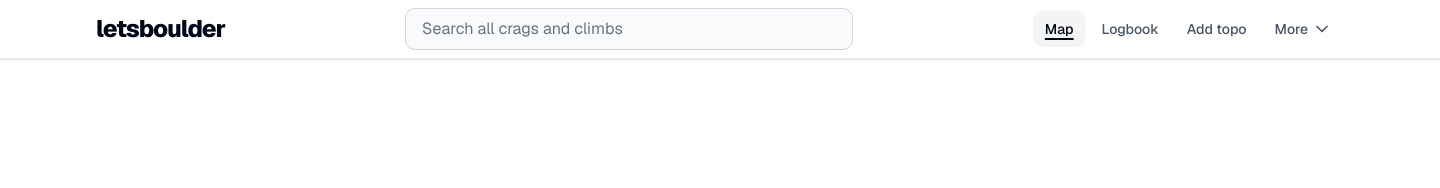
Test: Header search › offers clear and map recovery actions for an empty query
Step 1. Type "Burbage" into the dropdown labelled "Search all crags and climbs" → (629, 29), box x1=405 y1=8 x2=853 y2=50
Wait 500 ms
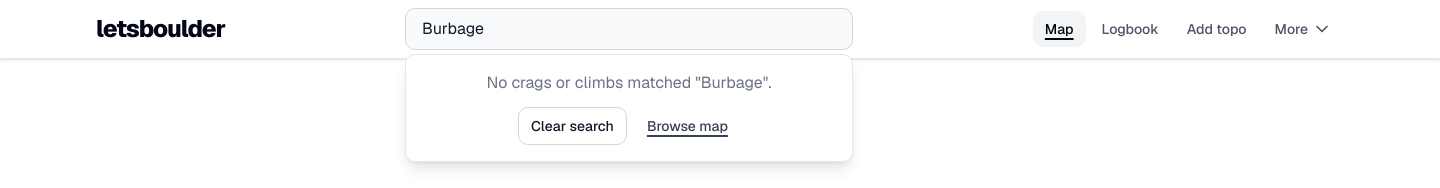
expect the text "No crags or climbs matched \"Burbage\"." is shown: met, box x1=486 y1=72 x2=771 y2=93
Step 2. Click the button "Clear search" → (572, 126), box x1=518 y1=107 x2=627 y2=145
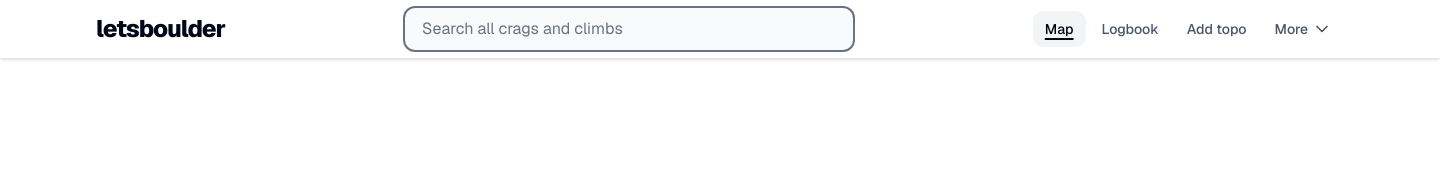
expect the dropdown labelled "Search all crags and climbs" is empty: met, box x1=405 y1=8 x2=853 y2=50
expect the text "No crags or climbs matched" is gone: met
